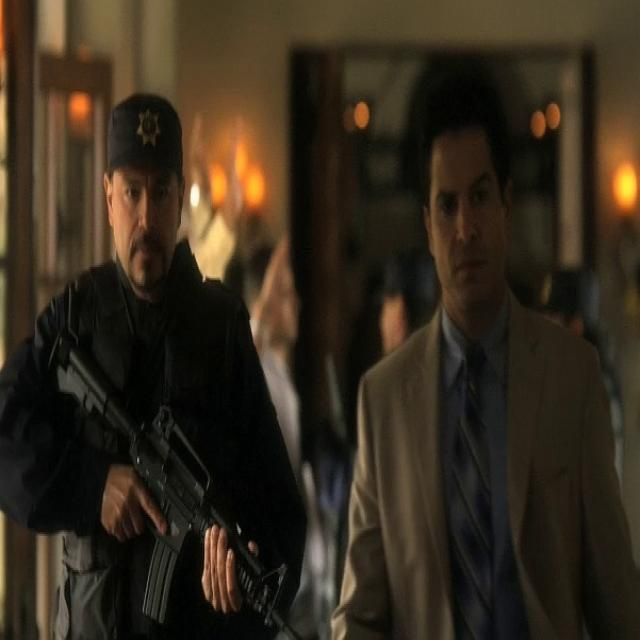rifle: (53, 327, 306, 640)
